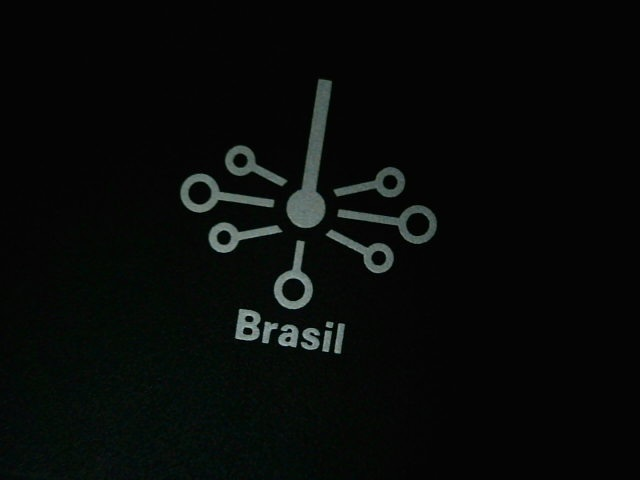BG_Brasil: (157, 69, 440, 372)
